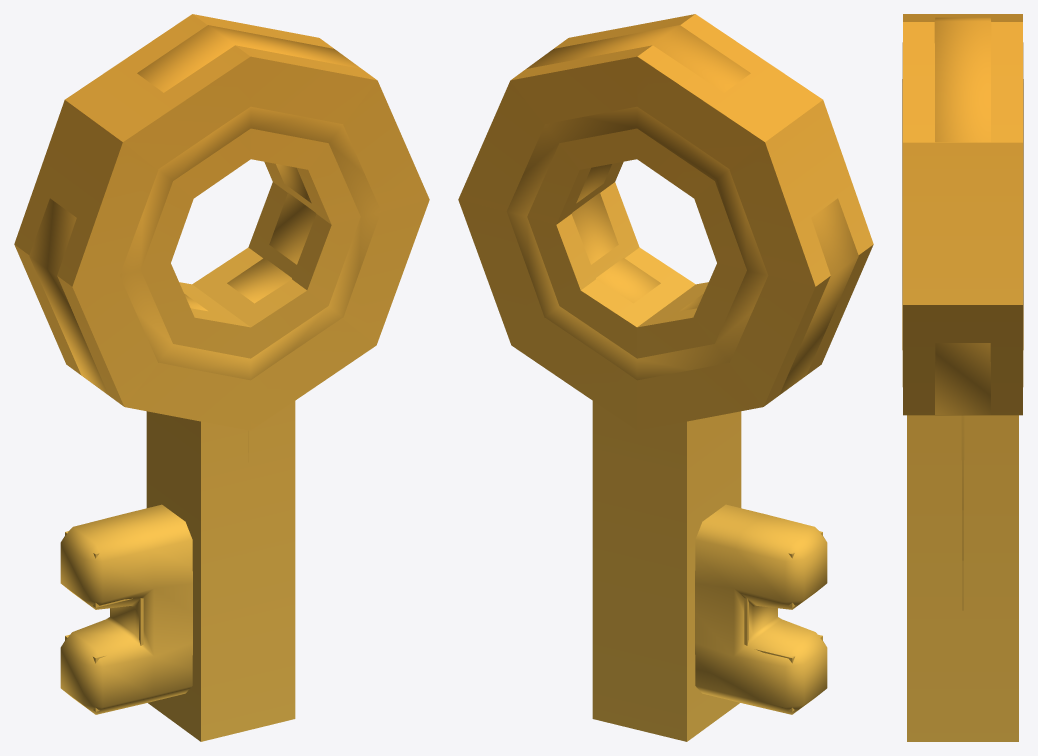
Rendered from key.fbx.
The picture shows the model from 3 angles, left to right: view 1: azimuth 30°, elevation 25°; view 2: azimuth 150°, elevation 25°; view 3: azimuth 270°, elevation 25°; orthographic projection. The views are drawn at different scales.
Visible parts, largest first — view 1: key low, key; view 2: key low, key; view 3: key low, key.
Part boxes in pixels (x1,y1,x2,y2): key low: (14, 14, 429, 741); key: (29, 25, 381, 714); key low: (458, 14, 873, 741); key: (506, 25, 858, 714); key low: (902, 14, 1023, 741); key: (902, 17, 1023, 610).
Bounding box in the file's own units: 49.53 × 89.43 × 14.1.
Materials: 1 (1 with a texture image).
